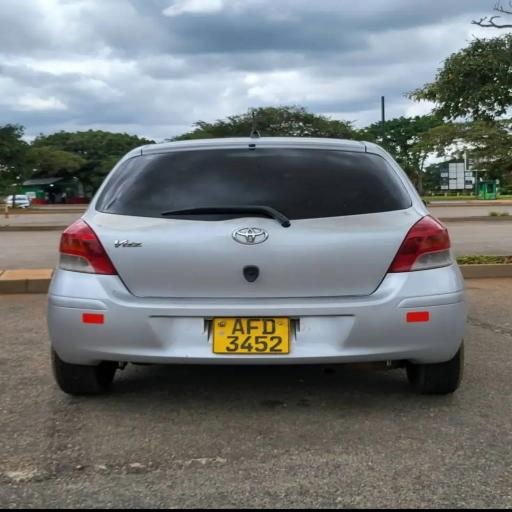number-plates: (211, 316, 287, 356)
